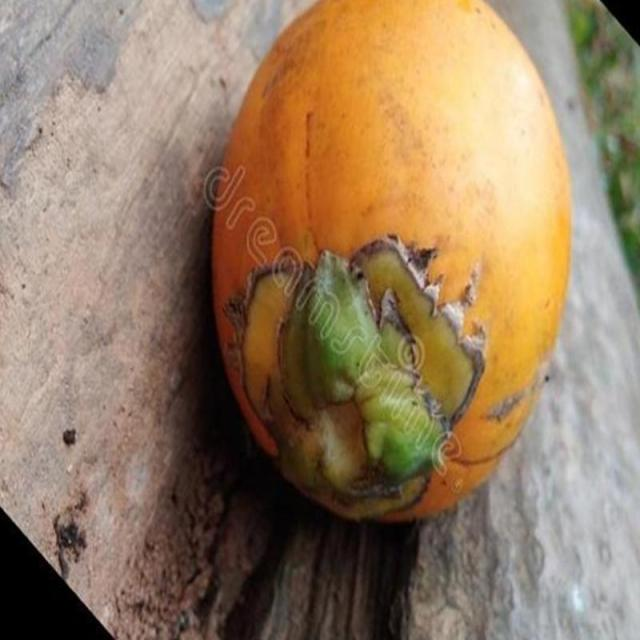good: (204, 0, 578, 528)
